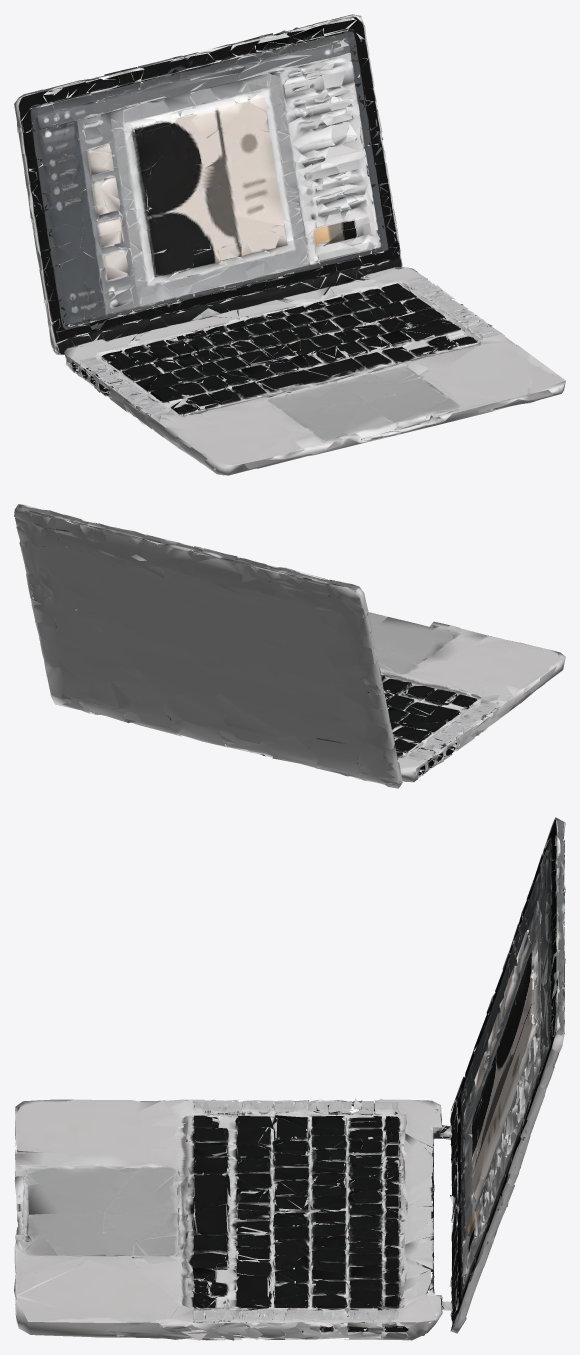
The model's file is laptop.glb.
The picture shows the model from 3 angles, top to bottom: view 1: azimuth 30°, elevation 25°; view 2: azimuth 150°, elevation 25°; view 3: azimuth 270°, elevation 25°; orthographic projection. The views are drawn at different scales.
Visible parts, largest first — view 1: Laptop · Vinay; view 2: Laptop · Vinay; view 3: Laptop · Vinay.
Boxes of the visible parts, x1=… form: Laptop · Vinay: x1=14, y1=14, x2=565, y2=475; Laptop · Vinay: x1=14, y1=504, x2=565, y2=788; Laptop · Vinay: x1=14, y1=817, x2=565, y2=1340.
Bounding box in the file's own units: 0.2991 × 0.1945 × 0.3106.
1 material, 1 textured.
